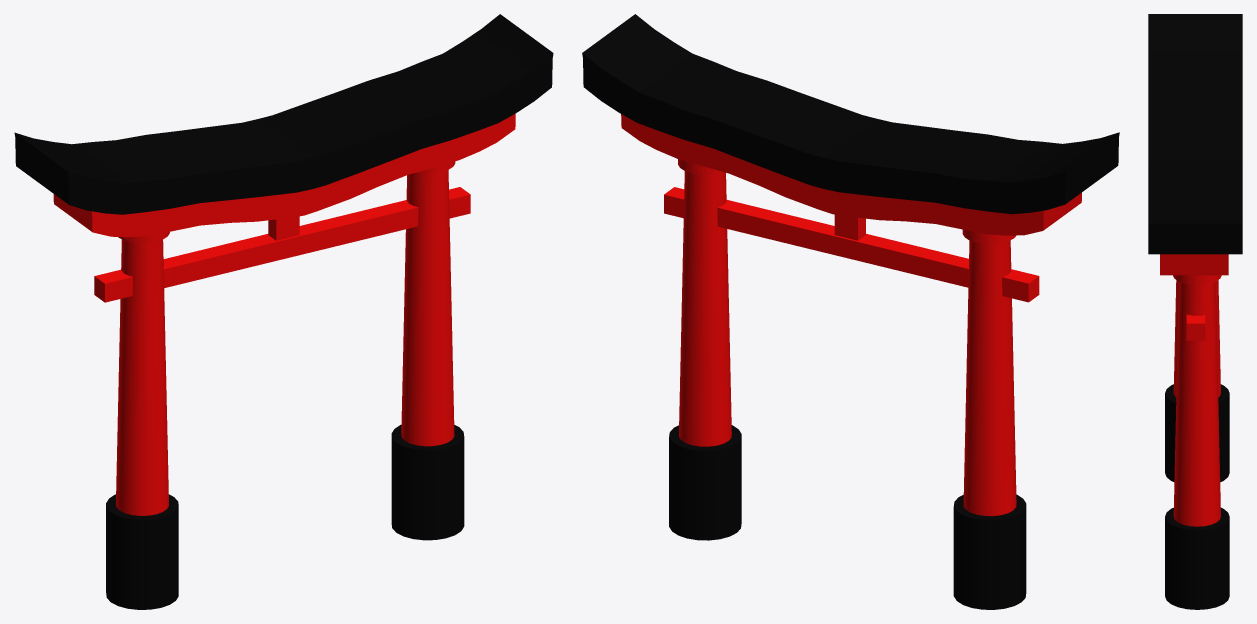
Rendered from TORI4.FBX.
The picture shows the model from 3 angles, left to right: view 1: azimuth 30°, elevation 25°; view 2: azimuth 150°, elevation 25°; view 3: azimuth 270°, elevation 25°; orthographic projection. The views are drawn at different scales.
Parts seen in each view (by area): view 1: Object004; view 2: Object004; view 3: Object004.
Part boxes in pixels (box(x1,y1,x2,y2)): Object004: box(14, 14, 553, 609); Object004: box(582, 14, 1119, 609); Object004: box(1148, 14, 1242, 609).
Bounding box in the file's own units: 572 × 527 × 109.
